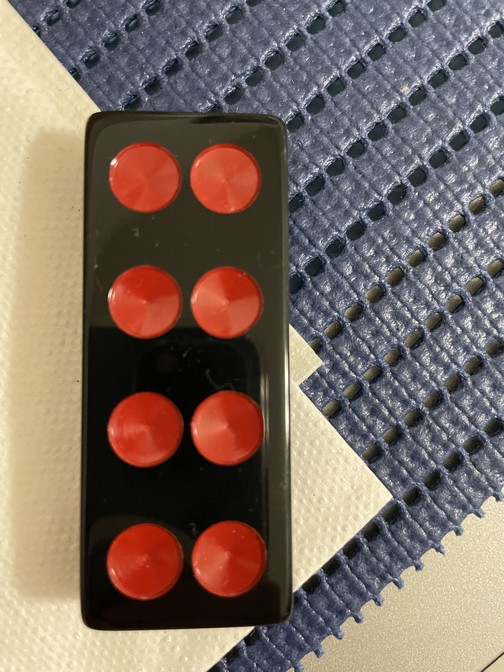man: (84, 114, 291, 628)
